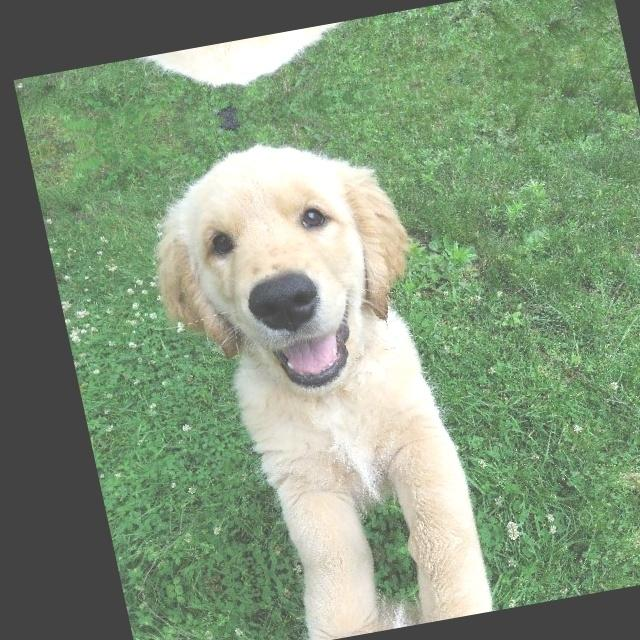dog: (129, 100, 520, 582), (220, 529, 536, 640), (110, 10, 420, 121)
